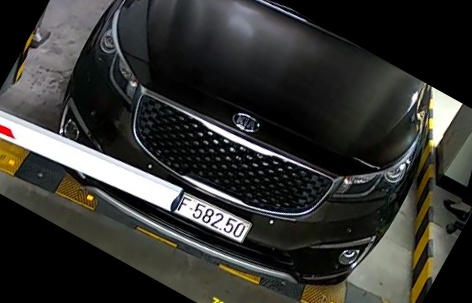plate: (167, 185, 263, 249)
